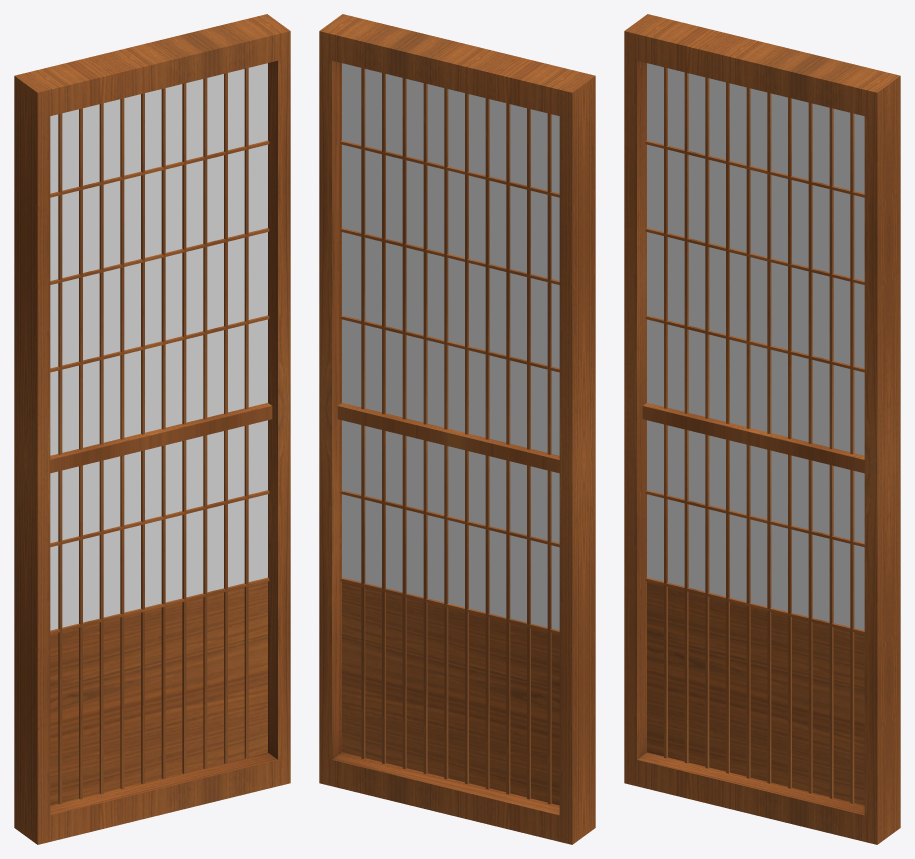
The model's file is Door2.b.fbx.
3 renders of one model, left to right at view 1: azimuth 30°, elevation 25°; view 2: azimuth 150°, elevation 25°; view 3: azimuth 330°, elevation 25°, orthographic.
Parts seen in each view (by area): view 1: Group 0; view 2: Group 0; view 3: Group 0.
Part boxes in pixels (x1=…): Group 0: x1=14, y1=14, x2=290, y2=844; Group 0: x1=319, y1=14, x2=595, y2=844; Group 0: x1=624, y1=14, x2=900, y2=844.
Size of the model in its own units: 100 by 284 by 16.
5 materials, 5 textured.
